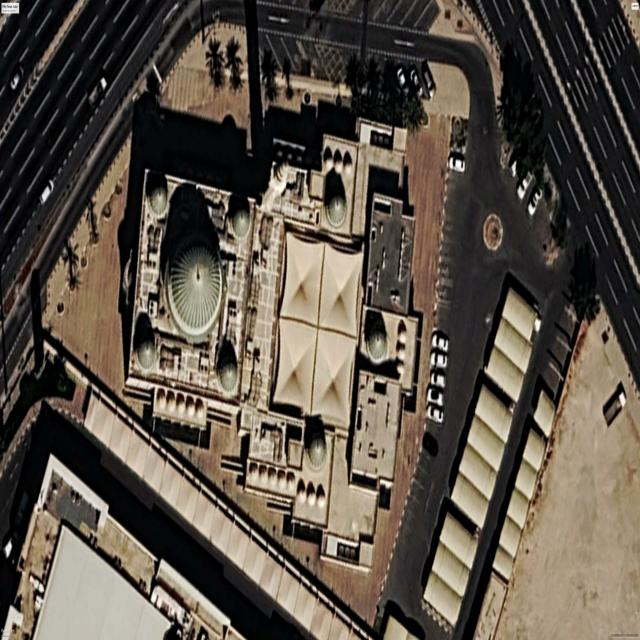mosque: (125, 120, 420, 570)
